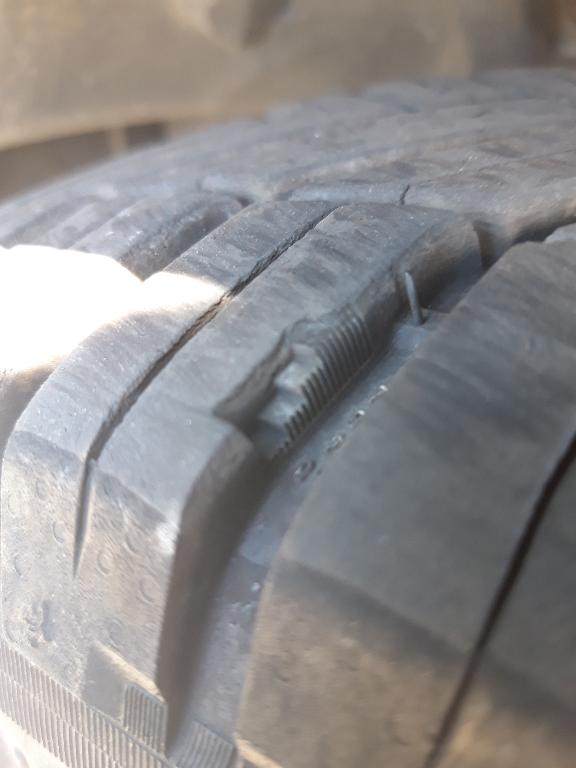temoin:80: (204, 296, 383, 478)
